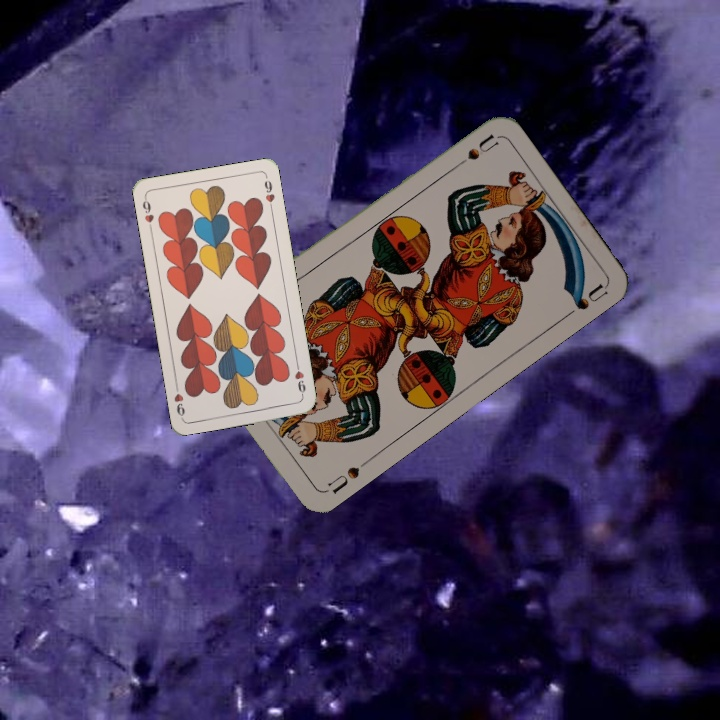H9: (138, 193, 156, 233), (290, 359, 308, 399)
SU: (446, 130, 501, 174), (324, 462, 363, 497)
